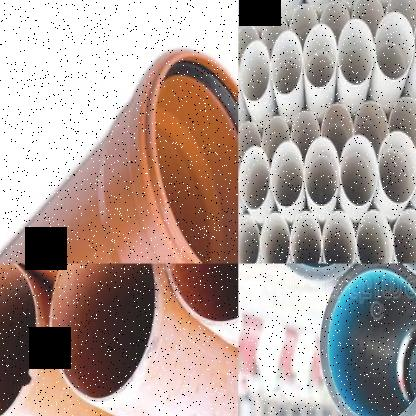pipe: (141, 51, 238, 263), (319, 263, 416, 416), (50, 263, 156, 402), (0, 263, 37, 416), (377, 132, 416, 204), (375, 12, 415, 80), (340, 135, 378, 206), (303, 136, 340, 206), (337, 19, 374, 86), (270, 140, 304, 209), (303, 24, 337, 89), (271, 31, 303, 96), (239, 146, 271, 210), (356, 210, 393, 264), (239, 40, 271, 102), (322, 210, 357, 264), (291, 210, 322, 264), (260, 213, 291, 264), (392, 208, 416, 264), (238, 214, 260, 264)
